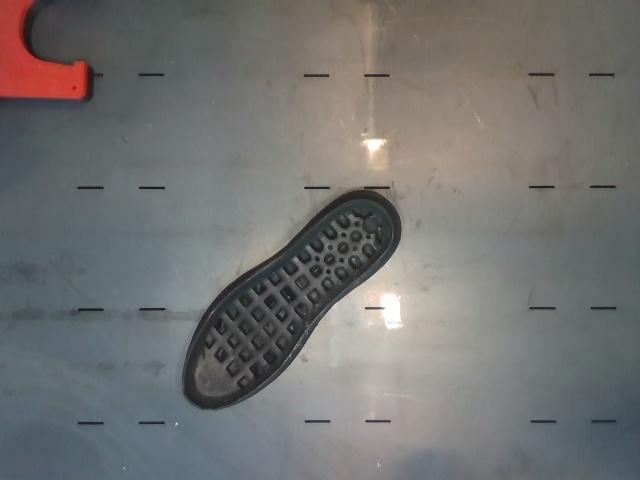shoes: (184, 199, 394, 410)
